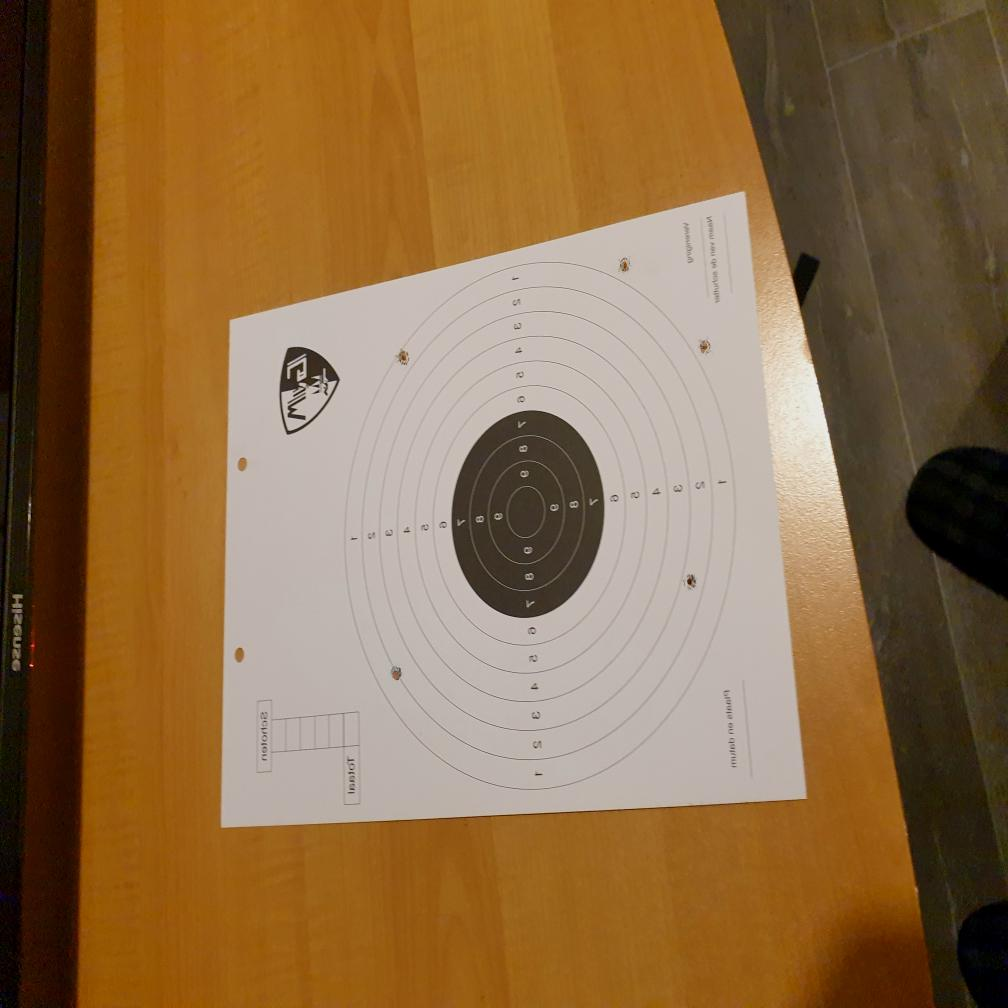0: (698, 337, 711, 357), (619, 257, 631, 274)
1: (396, 347, 408, 366)
2: (684, 572, 698, 591), (391, 666, 402, 682)
Target: (344, 262, 736, 790)
black_contour: (451, 411, 604, 618)
